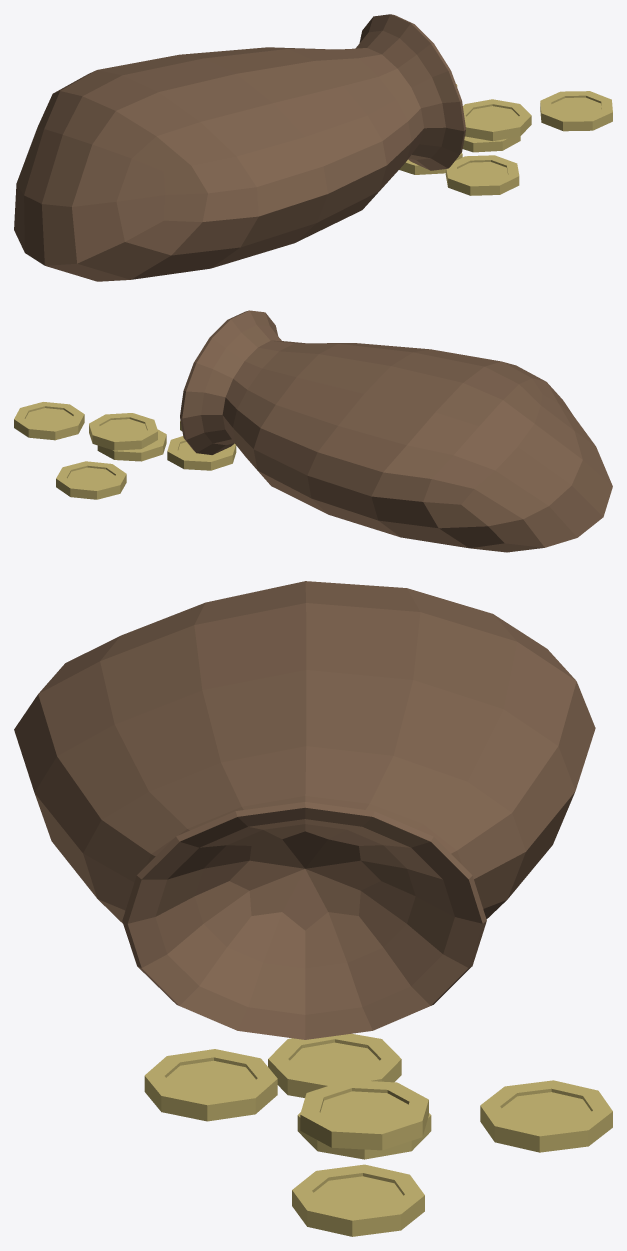
Rendered from Bag_Coins.glb.
The picture shows the model from 3 angles, top to bottom: view 1: azimuth 30°, elevation 25°; view 2: azimuth 150°, elevation 25°; view 3: azimuth 270°, elevation 25°; orthographic projection. The views are drawn at different scales.
Visible parts, largest first — view 1: Bag_Coins; view 2: Bag_Coins; view 3: Bag_Coins.
Part boxes in pixels (box(x1,y1,x2,y2)): Bag_Coins: box(14, 14, 612, 281); Bag_Coins: box(14, 310, 612, 552); Bag_Coins: box(14, 581, 612, 1236).
Bounding box in the file's own units: 0.442 × 0.1146 × 0.2222.
